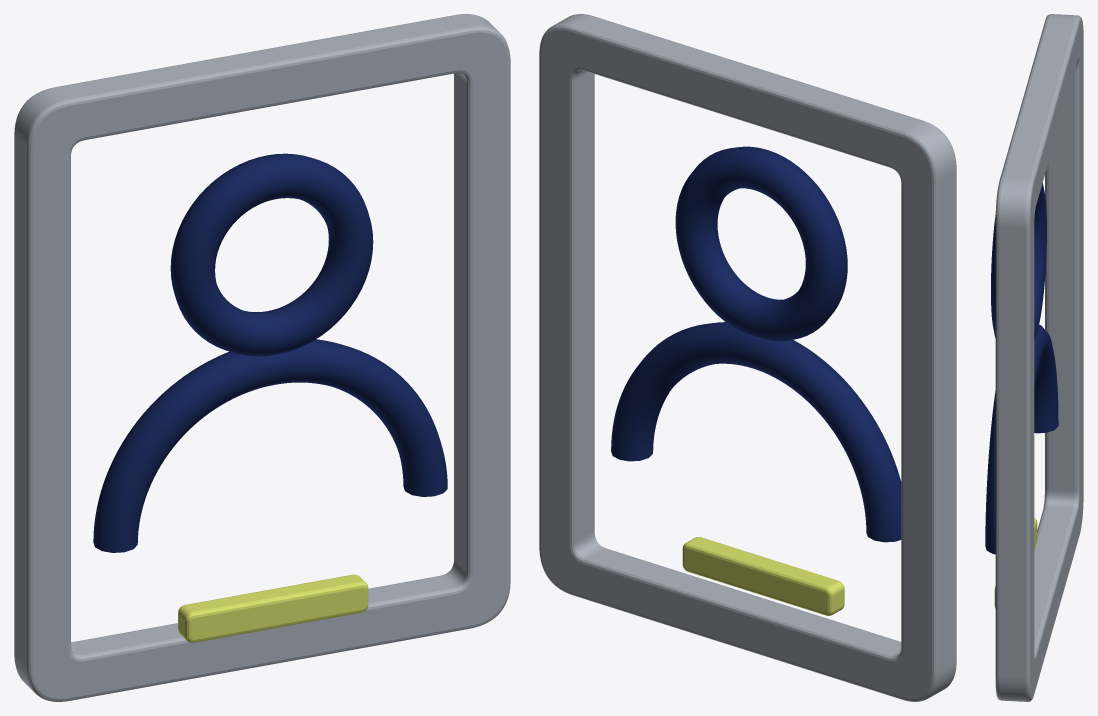
3 renders of one model, left to right at view 1: azimuth 30°, elevation 25°; view 2: azimuth 150°, elevation 25°; view 3: azimuth 270°, elevation 25°, orthographic. The views are drawn at different scales.
Parts seen in each view (by area): view 1: profile boundary, rounded metal arc, profile shoulders, machined plate; view 2: profile boundary, rounded metal arc, profile shoulders, machined plate; view 3: profile boundary, profile shoulders, rounded metal arc.
Part boxes in pixels (bbox=[...]): profile boundary: bbox=[14, 14, 510, 701]; rounded metal arc: bbox=[170, 153, 373, 356]; profile shoulders: bbox=[93, 339, 447, 552]; machined plate: bbox=[178, 574, 368, 642]; profile boundary: bbox=[539, 14, 956, 701]; rounded metal arc: bbox=[675, 146, 847, 341]; profile shoulders: bbox=[611, 322, 901, 542]; machined plate: bbox=[682, 537, 844, 615]; profile boundary: bbox=[995, 14, 1083, 701]; profile shoulders: bbox=[985, 324, 1058, 554]; rounded metal arc: bbox=[991, 183, 1046, 339].
Bounding box in the file's own units: 1.53 × 1.93 × 0.3311.
